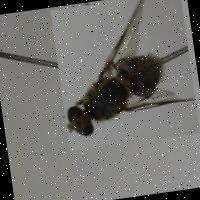Oriental-fruit-fly: (49, 0, 198, 149)
